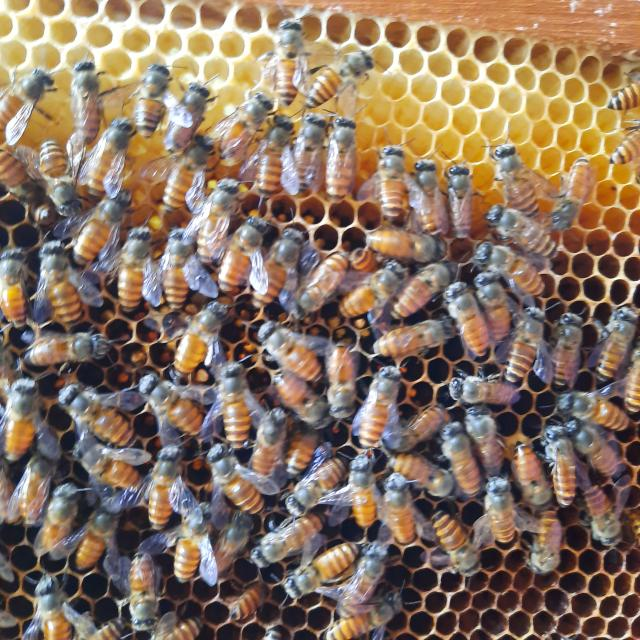honeybee: (102, 225, 166, 324), (56, 379, 138, 455), (289, 46, 380, 112), (68, 186, 142, 265), (276, 541, 368, 598), (40, 242, 100, 328), (484, 147, 546, 229), (207, 91, 277, 162), (4, 437, 59, 526), (248, 514, 330, 570), (255, 317, 322, 383), (32, 136, 86, 217), (484, 204, 563, 259), (282, 456, 352, 518), (153, 140, 210, 216), (475, 245, 558, 297), (203, 446, 263, 517), (169, 296, 221, 376), (191, 174, 235, 268), (166, 78, 221, 153), (76, 119, 130, 195), (446, 285, 499, 362), (248, 227, 296, 312), (143, 374, 203, 442), (0, 72, 52, 150), (332, 539, 384, 617), (63, 502, 117, 575), (355, 366, 402, 449), (328, 590, 406, 640), (255, 113, 303, 194), (266, 18, 308, 108), (568, 420, 626, 484), (435, 424, 485, 498), (559, 388, 640, 433), (538, 423, 578, 514), (593, 305, 640, 382), (157, 229, 201, 311), (68, 66, 114, 144), (292, 252, 347, 317), (430, 514, 481, 582), (374, 145, 416, 227), (393, 450, 453, 507), (4, 378, 44, 462), (76, 436, 139, 489), (213, 368, 254, 448), (129, 62, 171, 140), (217, 213, 259, 291), (370, 223, 446, 266), (28, 334, 110, 372), (173, 506, 213, 583), (274, 374, 328, 431), (373, 321, 458, 357), (578, 479, 622, 548), (466, 406, 508, 478), (323, 114, 358, 200), (441, 161, 478, 241), (548, 312, 585, 392), (475, 272, 517, 342), (0, 241, 34, 327), (555, 159, 595, 232), (247, 409, 282, 492), (509, 300, 546, 378), (410, 155, 446, 235), (149, 446, 185, 526), (511, 440, 551, 511), (288, 114, 322, 197), (123, 554, 161, 628), (389, 406, 451, 451), (40, 480, 76, 557), (446, 374, 524, 409), (34, 572, 74, 640), (214, 511, 257, 574), (484, 474, 518, 549), (328, 340, 359, 422), (526, 504, 563, 571), (384, 475, 420, 543), (347, 454, 378, 523), (0, 142, 33, 201), (148, 612, 210, 640), (226, 582, 268, 622), (604, 127, 640, 172), (281, 431, 314, 478), (603, 76, 640, 117), (88, 617, 128, 640), (626, 350, 640, 414), (348, 248, 376, 272), (33, 202, 56, 226), (262, 630, 283, 640)
